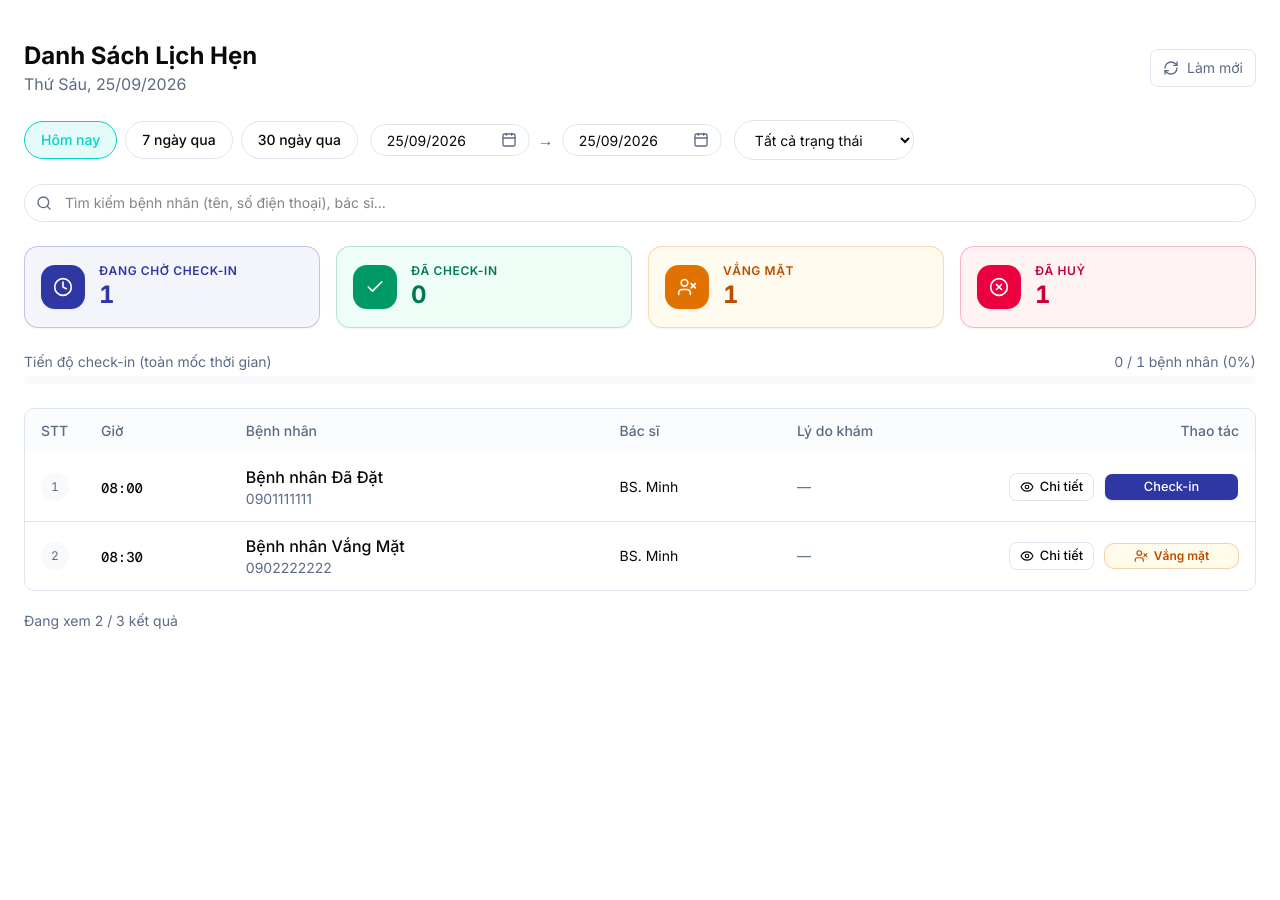
Scenario: NurseCheckinView › should hide CANCELLED appointments on default ALL screen and show them when CANCELLED is selected
Expected: the text "Bệnh nhân Đã Đặt" is shown, [246, 467, 383, 487]
Expected: the text "Bệnh nhân Vắng Mặt" is shown, [246, 536, 405, 556]
// When changing status dropdown to "CANCELLED"
Select "Đã huỷ" in the dropdown: (824, 140) [734, 120, 914, 160]
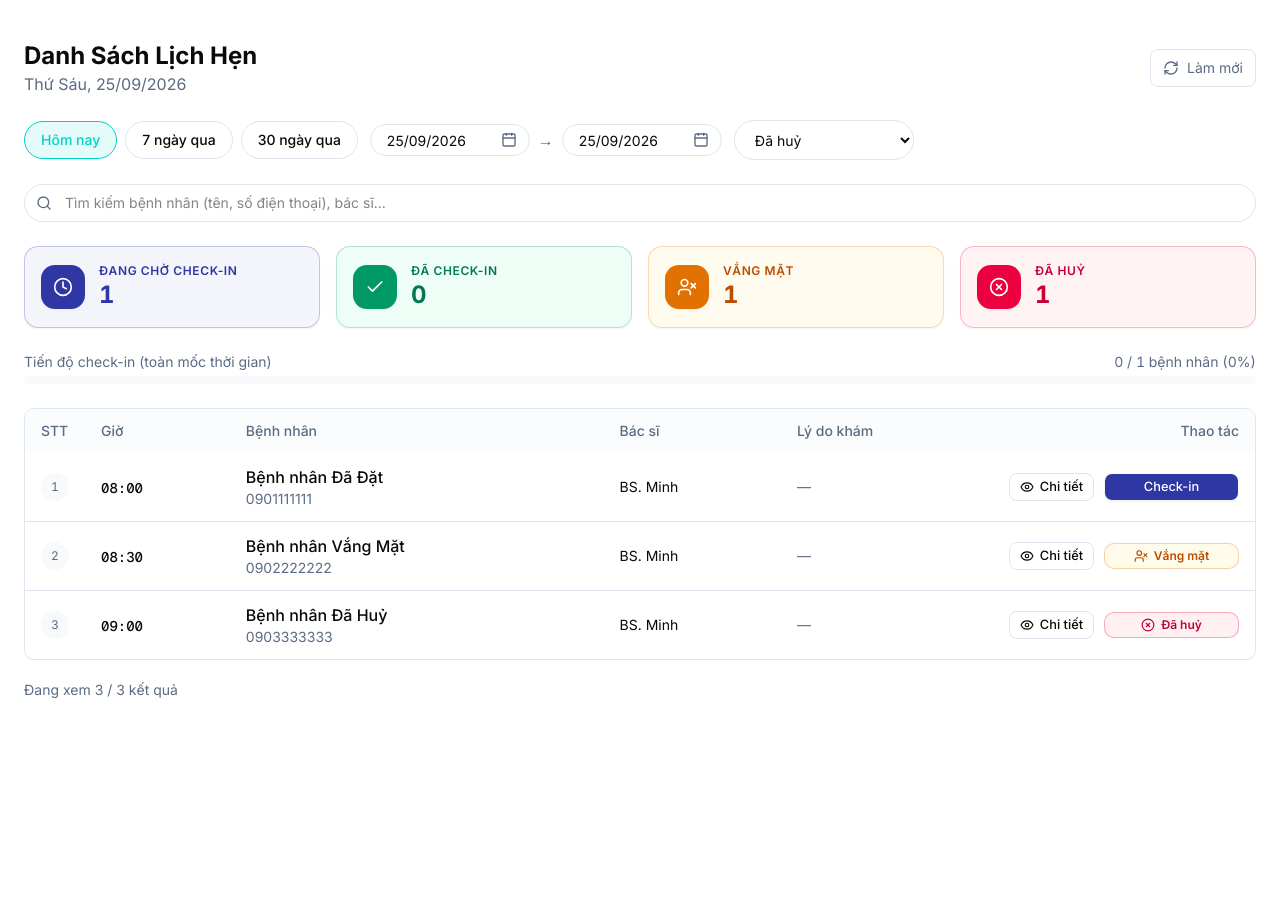
Expected: the text "Bệnh nhân Đã Huỷ" is shown, [246, 605, 387, 625]
